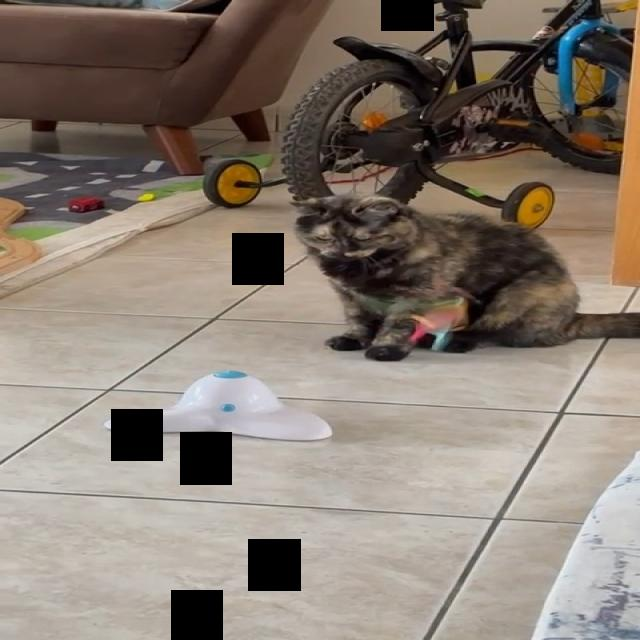authorized: (288, 192, 639, 362)
